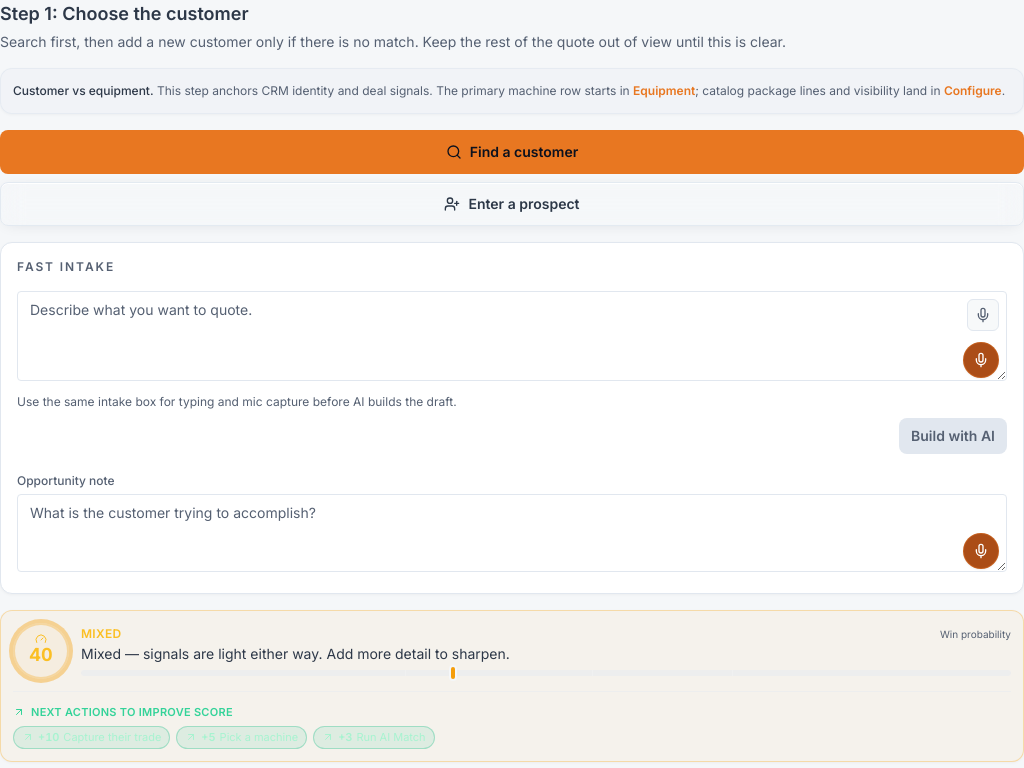
Test case: CustomerStep — mobile picker surface › opens the picker inside a MobileBottomSheet when the rep taps Find a customer
The image size is (1024, 768).
Click the button with test id "customer-step-open-picker".
click(512, 152)  # box [0,130,1023,174]
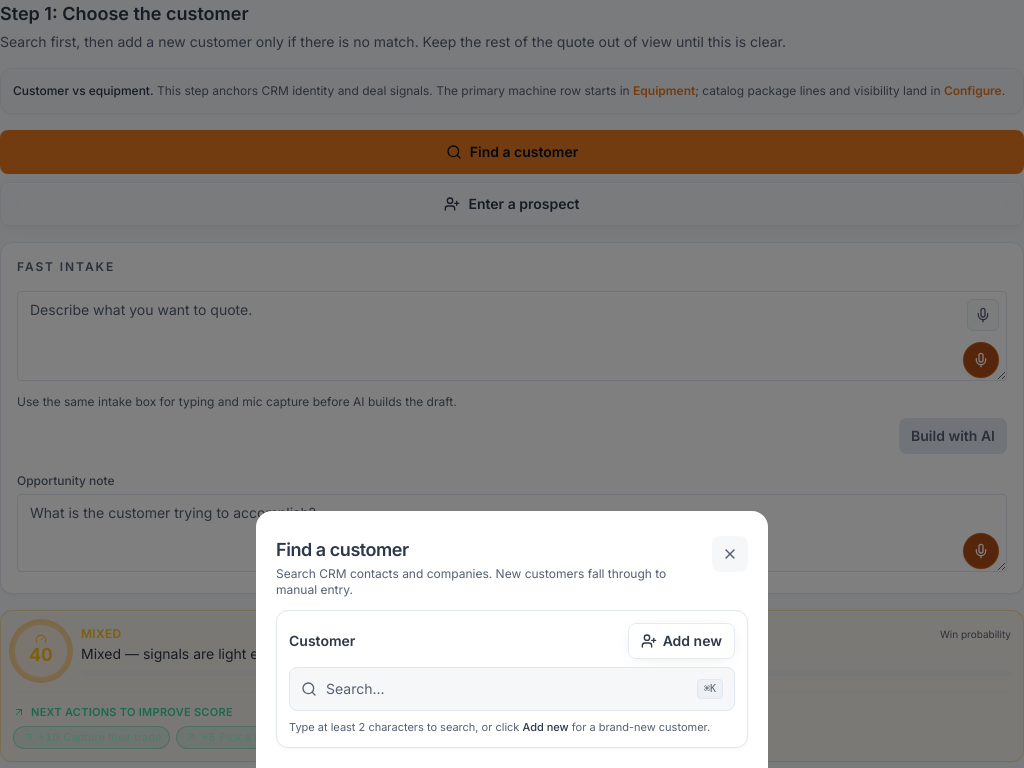
Expected: the element with test id "customer-step-picker-sheet" is shown, [276,610,748,748]
